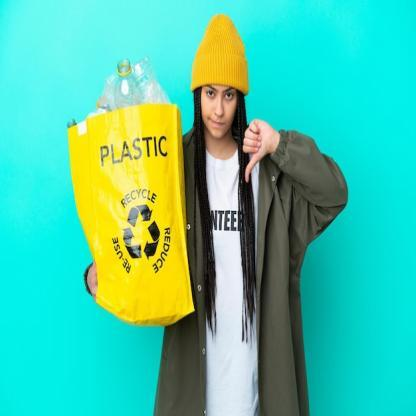thumb_down: (240, 114, 274, 183)
